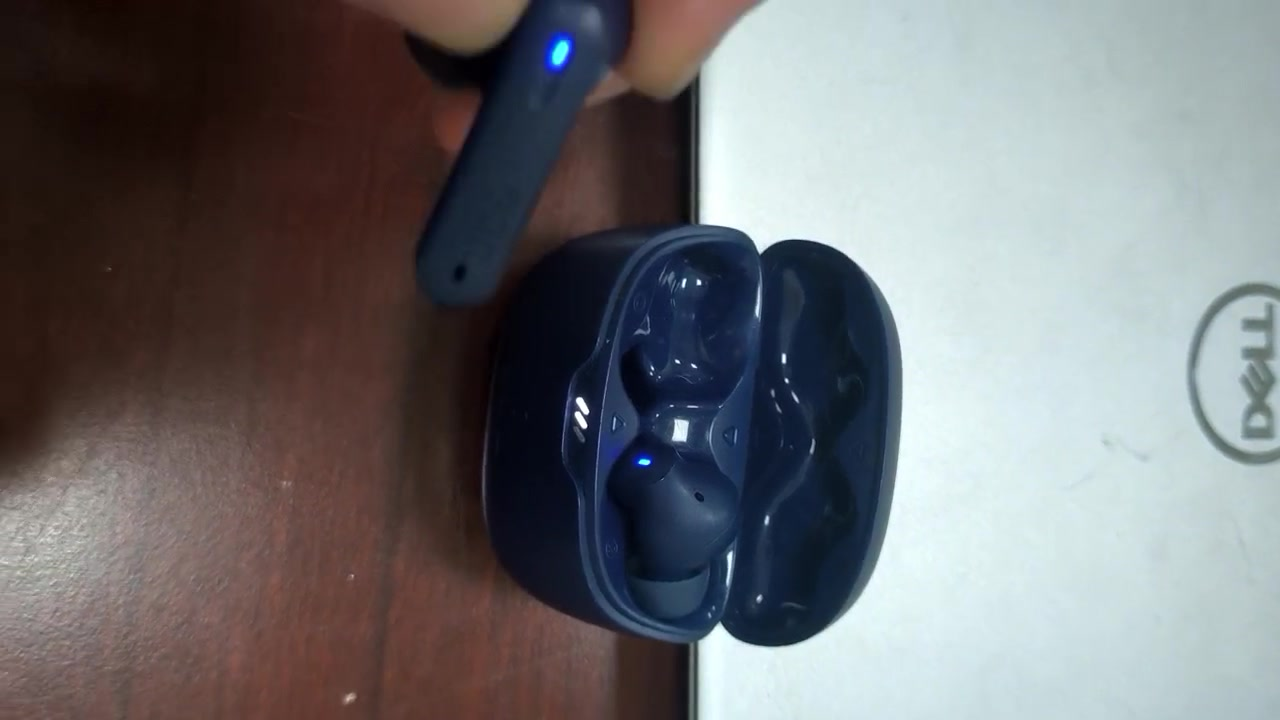Earbud: (409, 0, 631, 304), (608, 437, 738, 617)
Empty_Slot: (615, 227, 782, 417)
